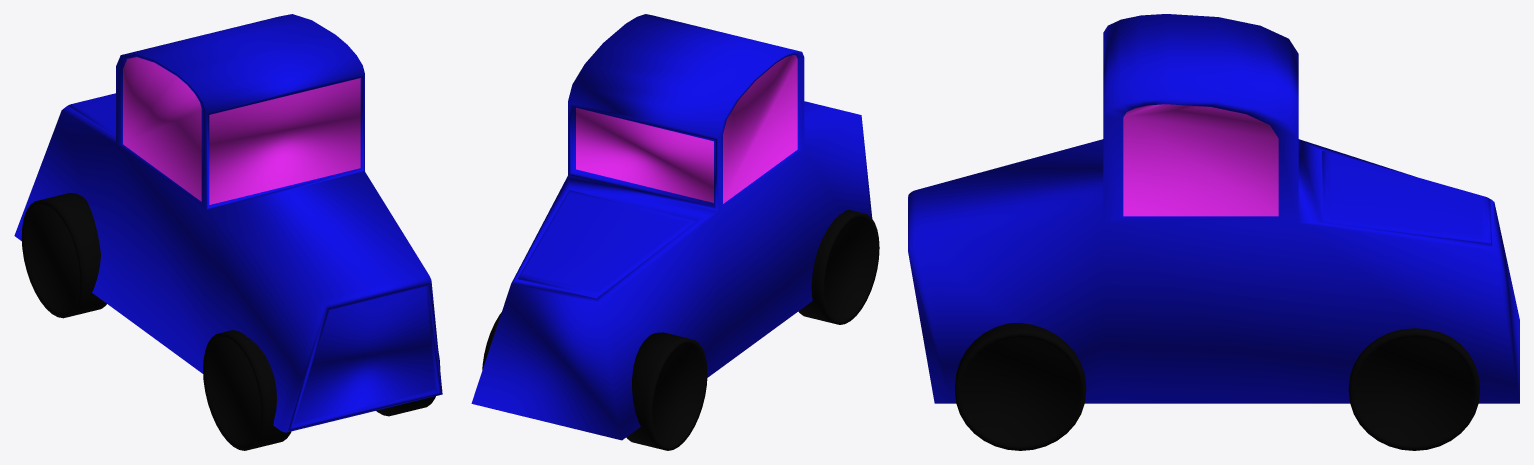
File: carToys.fbx
The picture shows the model from 3 angles, left to right: view 1: azimuth 30°, elevation 25°; view 2: azimuth 150°, elevation 25°; view 3: azimuth 270°, elevation 25°; orthographic projection. The views are drawn at different scales.
Parts seen in each view (by area): view 1: carcasse, rouesAVG, rouesARG, rouesARD; view 2: carcasse, rouesAVG, rouesARG; view 3: carcasse, rouesARD, rouesAVD.
Part boxes in pixels (x1,y1,x2,y2): carcasse: (14, 14, 442, 432); rouesAVG: (21, 193, 106, 318); rouesARG: (203, 330, 291, 450); rouesARD: (376, 351, 440, 416); carcasse: (471, 14, 872, 440); rouesAVG: (626, 332, 707, 450); rouesARG: (798, 209, 879, 324); carcasse: (908, 14, 1519, 403); rouesARD: (955, 323, 1086, 450); rouesAVD: (1348, 328, 1479, 450).
Bounding box in the file's own units: 223 × 387 × 615.
